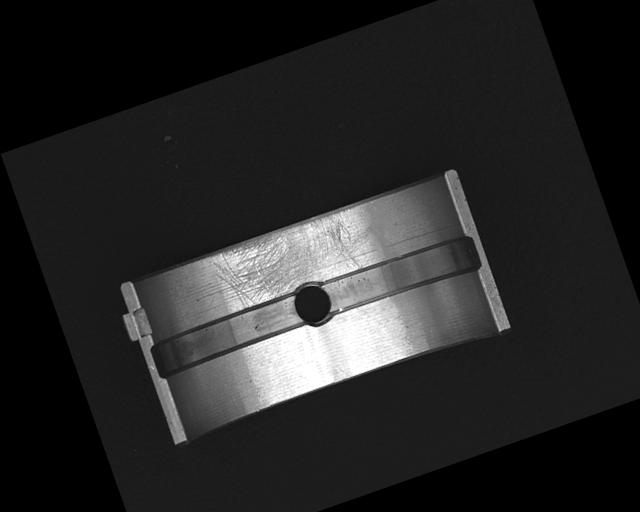gap: (318, 229, 482, 320), (147, 295, 305, 377)
hole: (289, 277, 337, 332)
scratch: (208, 204, 374, 315)
